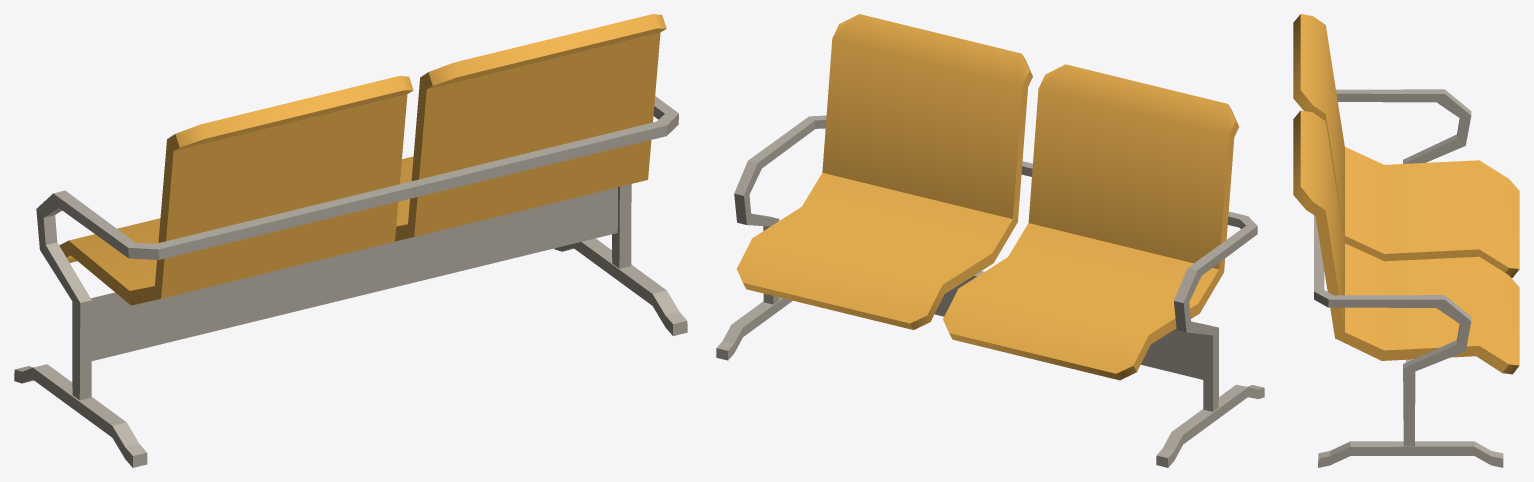
File: SM_Chairs_02.fbx
The picture shows the model from 3 angles, left to right: view 1: azimuth 30°, elevation 25°; view 2: azimuth 150°, elevation 25°; view 3: azimuth 270°, elevation 25°; orthographic projection. The views are drawn at different scales.
Visible parts, largest first — view 1: SM_Chairs_02; view 2: SM_Chairs_02; view 3: SM_Chairs_02.
Boxes of the visible parts, x1,y1,x2,y2 form: SM_Chairs_02: (14, 14, 687, 467); SM_Chairs_02: (716, 14, 1264, 467); SM_Chairs_02: (1293, 14, 1519, 467).
Bounding box in the file's own units: 156 × 90.59 × 70.33.
Materials: 1 (1 with a texture image).
